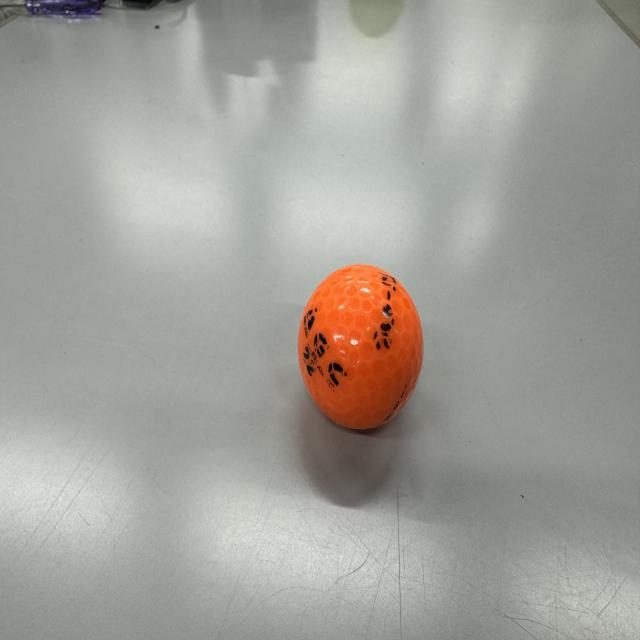ball: (294, 258, 429, 440)
